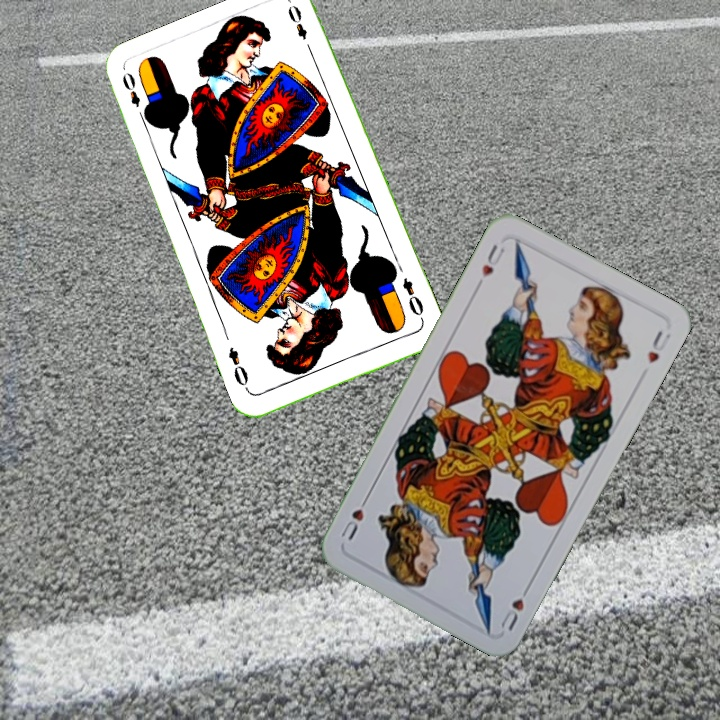EO: (398, 273, 427, 324), (118, 68, 143, 110)
HU: (495, 580, 534, 634), (472, 240, 508, 290)
